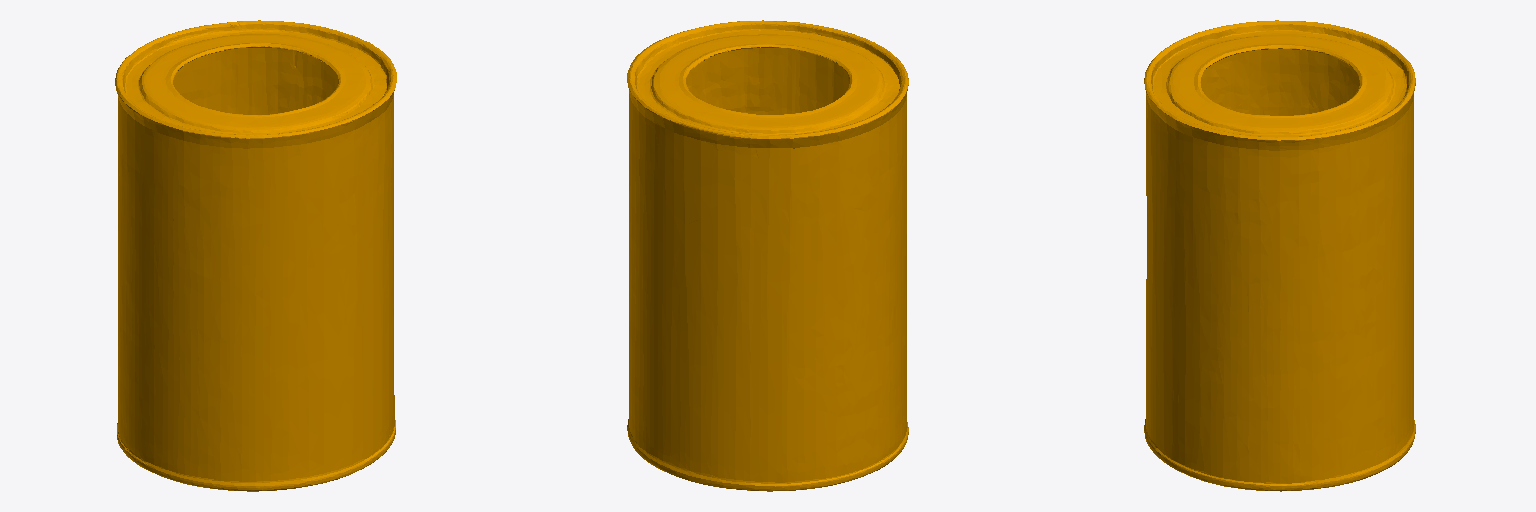
robot.urdf — sample:
<?xml version="1.0" ?>
<robot name="sample">
   <link name="sample">
      <visual>
         <origin xyz="0 0 0" rpy="1.5708 0.0 0.0"/>
         <geometry>
            <mesh filename="mesh/sample.obj" scale="1.0 1.0 1.0"/>
         </geometry>
      </visual>
      <collision>
         <origin xyz="0 0 0" rpy="1.5708 0.0 0.0"/>
         <geometry>
            <mesh filename="mesh/sample_collision.obj" scale="1.0 1.0 1.0"/>
         </geometry>
         <gazebo>
            <mu1>0.50</mu1>
            <mu2>0.40</mu2>
         </gazebo>
      </collision>
      <inertial>
         <mass value="0.5000"/>
         <origin xyz="0 0 0"/>
         <inertia ixx="1.0" ixy="0.0" ixz="0.0" iyy="1.0" iyz="0.0" izz="1.0"/>
      </inertial>
      <extra_info>
         <scale>0.125000</scale>
         <version>v0.1.7</version>
         <category>canned food</category>
         <description>red cylindrical can with salmon label</description>
         <min_height>0.1</min_height>
         <max_height>0.15</max_height>
         <real_height>0.125</real_height>
         <min_mass>0.4</min_mass>
         <max_mass>0.6</max_mass>
         <color>red</color>
         <rgba>[1.0, 0.0, 0.0, 1.0]</rgba>
         <generate_time>20260616094048</generate_time>
         <gs_model>mesh/sample_gs.ply</gs_model>
      </extra_info>
   </link>
   <custom_data>
      <quality>
         <MeshGeoChecker>YES</MeshGeoChecker>
         <ImageSegChecker>NO, object is not centered and appears truncated with incomplete geometry.</ImageSegChecker>
         <ImageAestheticChecker>4.069115877151489</ImageAestheticChecker>
         <overall>NO</overall>
      </quality>
   </custom_data>
</robot>

--- What the picture shows (computed from the rendered views, not written in the file) ---
3 views of the same robot in one strip: view 1: azimuth 30°, elevation 25°; view 2: azimuth 150°, elevation 25°; view 3: azimuth 270°, elevation 25° (orthographic).
Robot: sample — 1 links, 0 joints (none); root link sample; default pose: all joints at 0.
Visible links, largest first — view 1: sample; view 2: sample; view 3: sample.
Boxes of the visible links, x1=… form: sample: x1=115, y1=20, x2=396, y2=491; sample: x1=627, y1=20, x2=908, y2=491; sample: x1=1144, y1=20, x2=1415, y2=491.
Size in the robot's own frame: 0.0905 by 0.0869 by 0.125 metres.
Meshes: 1 distinct files referenced, 1 mesh visuals loaded (1 OBJ).
